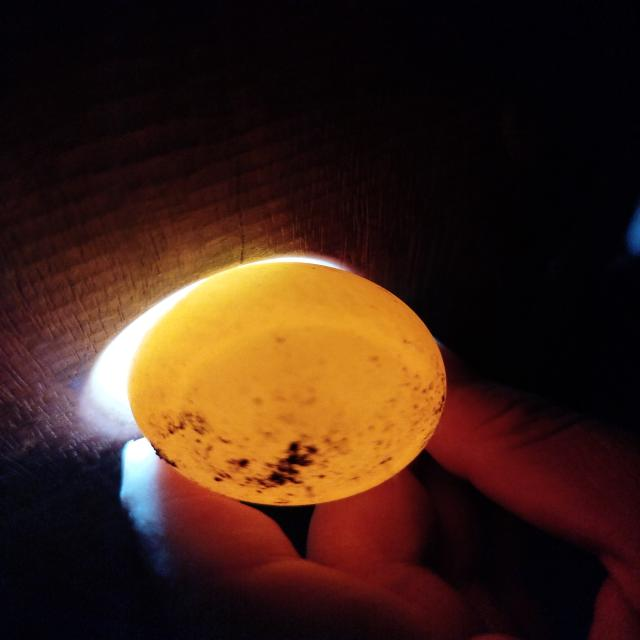Camara de Ar: (176, 326, 421, 477)
